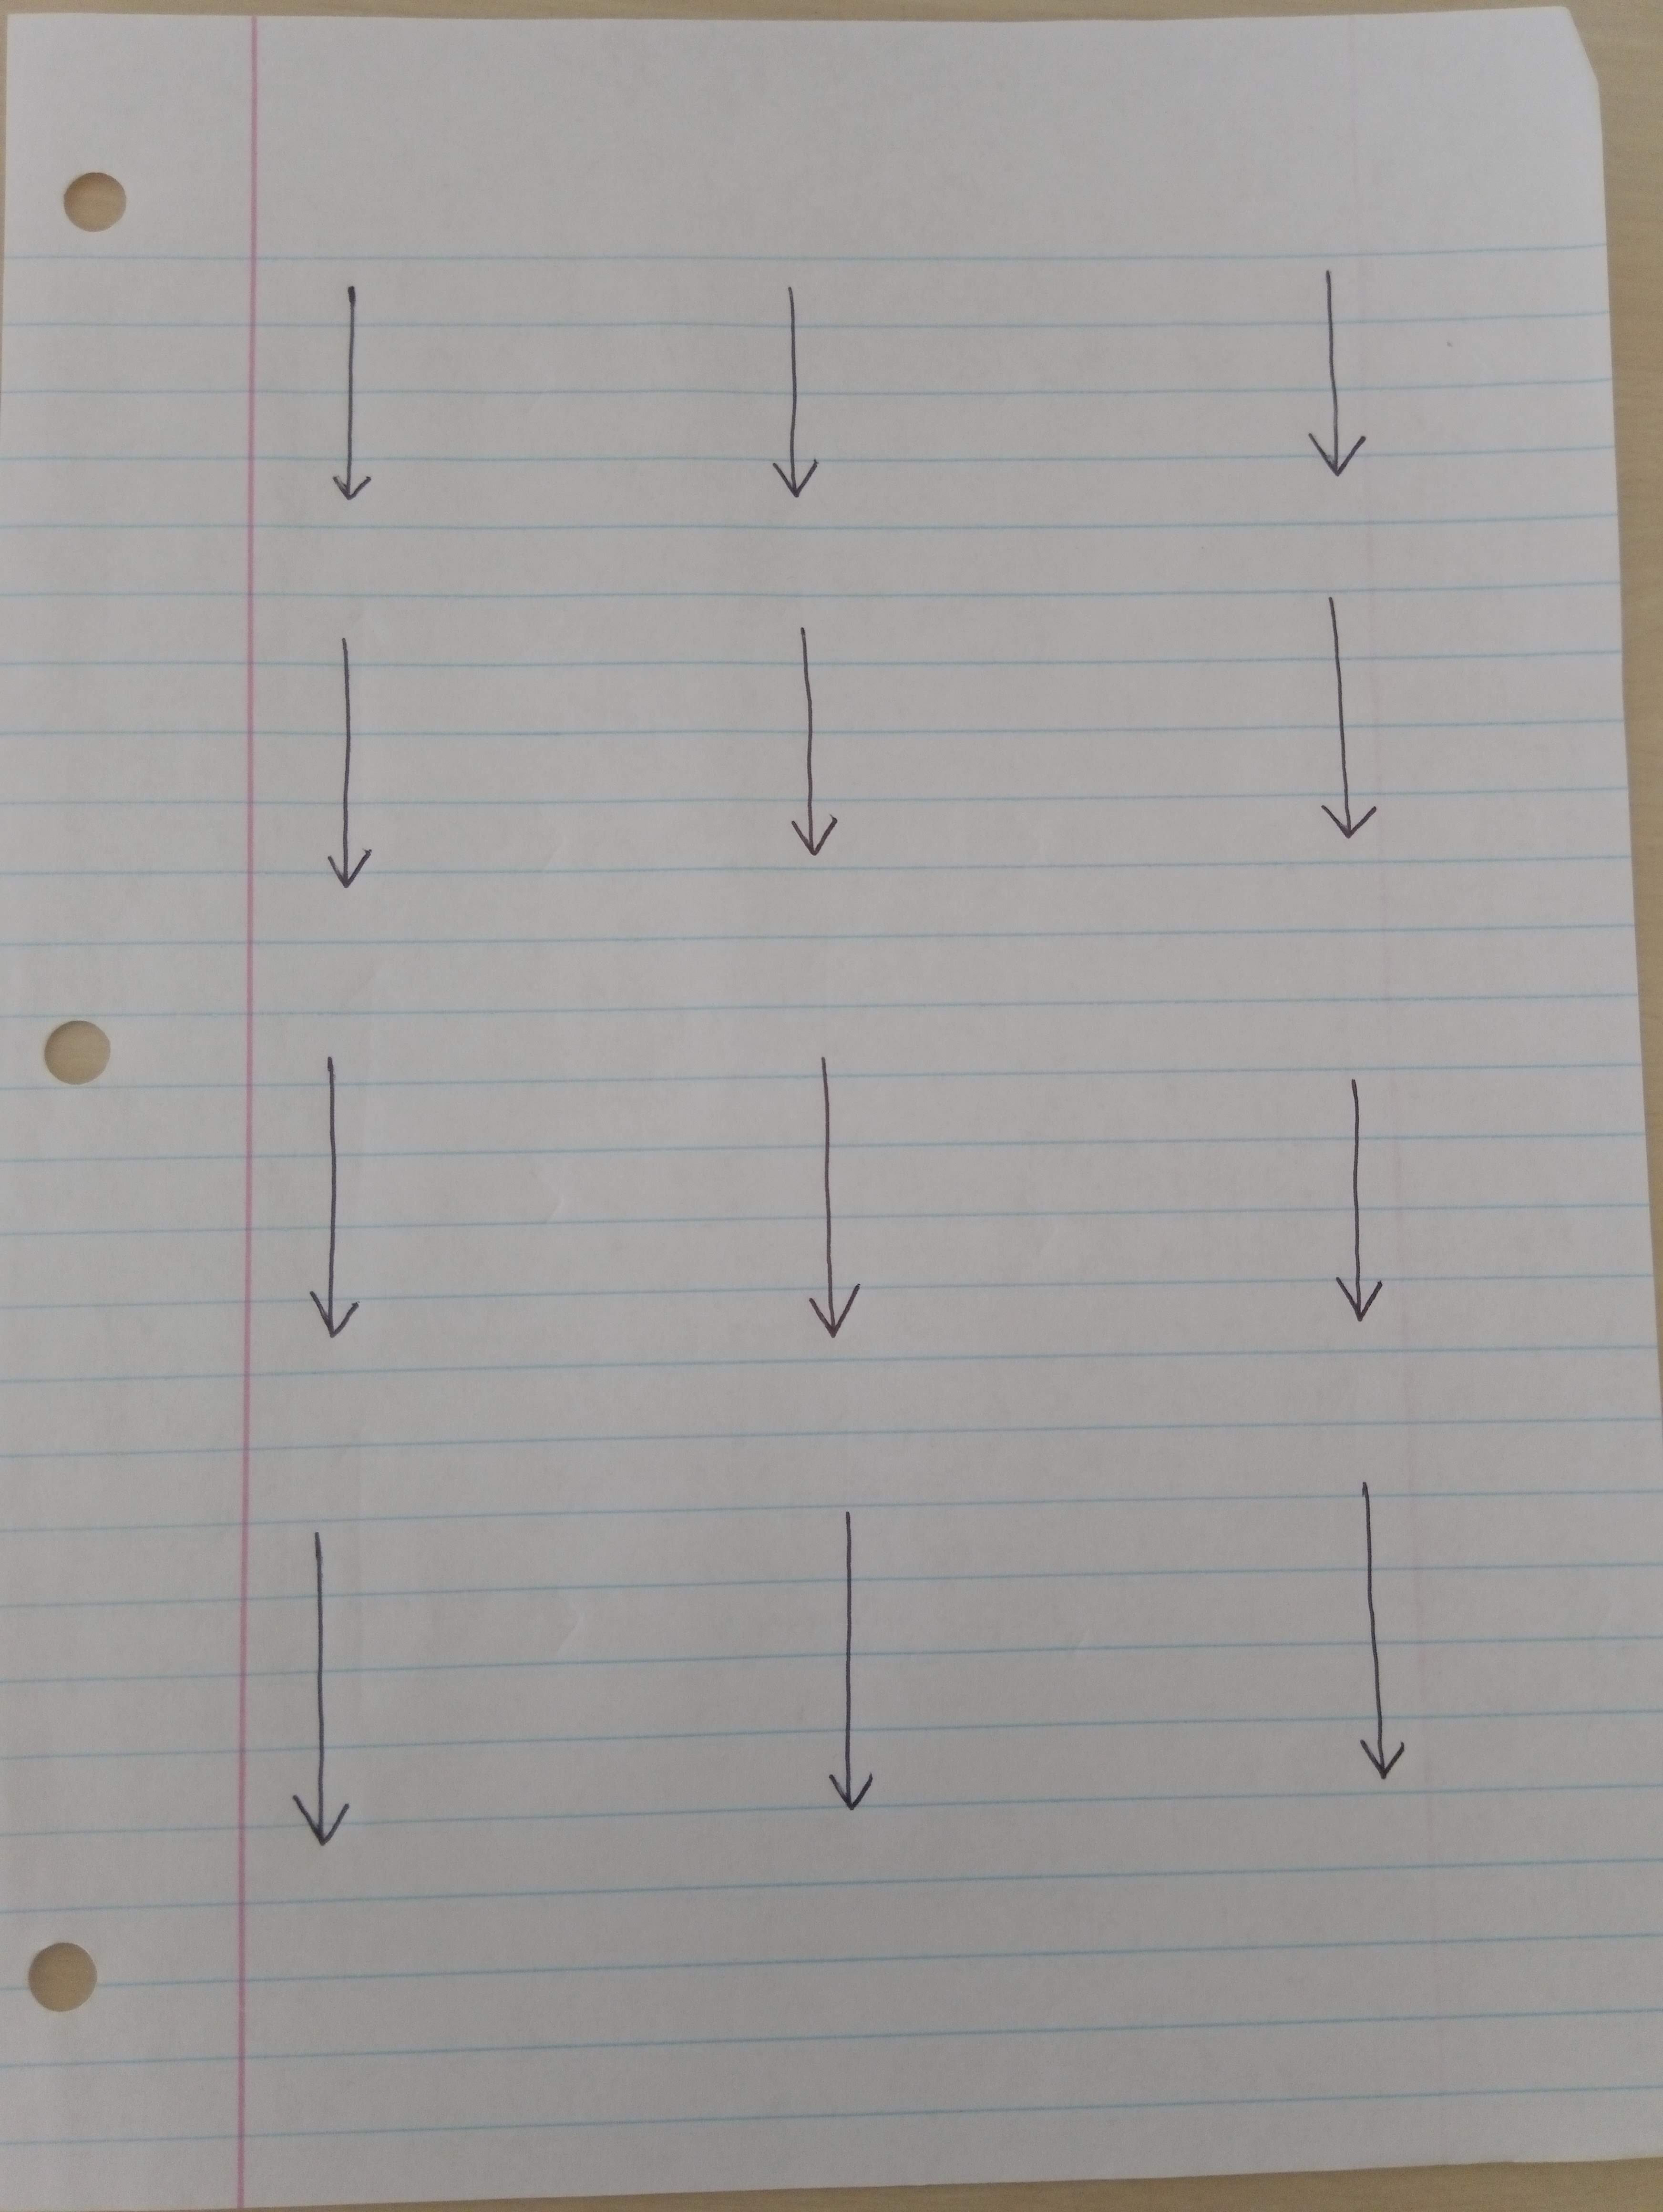arrow_line_down: (1314, 1465, 1438, 1802), (1273, 581, 1420, 845), (790, 1501, 907, 1828), (273, 1542, 383, 1884), (767, 1035, 873, 1348), (749, 608, 870, 868), (1261, 244, 1373, 494), (283, 1041, 370, 1351), (300, 632, 400, 904), (1314, 1068, 1404, 1337), (297, 262, 390, 512), (756, 278, 851, 512)
